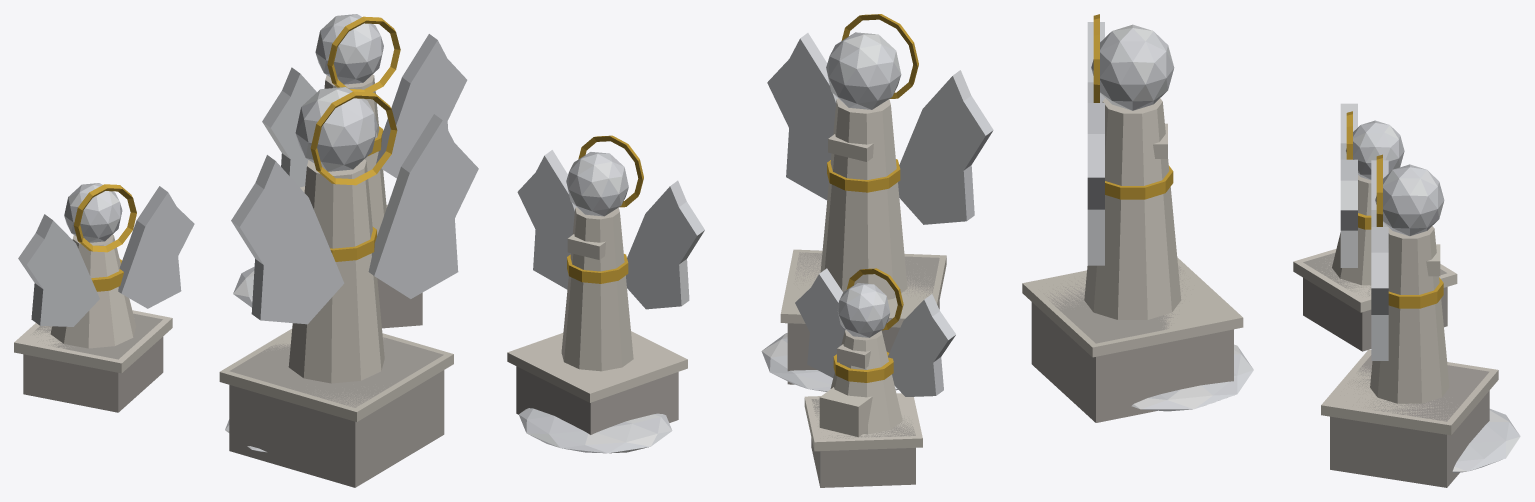
Rendered from Decor_CloudTemple_AngelStatues.fbx.
3 views of the same model, side by side, from view 1: azimuth 30°, elevation 25°; view 2: azimuth 150°, elevation 25°; view 3: azimuth 270°, elevation 25° (orthographic). The views are drawn at different scales.
Visible parts, largest first — view 1: AngelStatues_Body; view 2: AngelStatues_Body; view 3: AngelStatues_Body.
Boxes of the visible parts, x1,y1,x2,y2 form: AngelStatues_Body: (14,14,478,487); AngelStatues_Body: (507,14,993,487); AngelStatues_Body: (1022,14,1520,487).
Bounding box in the file's own units: 13.93 × 10.6 × 13.23.
